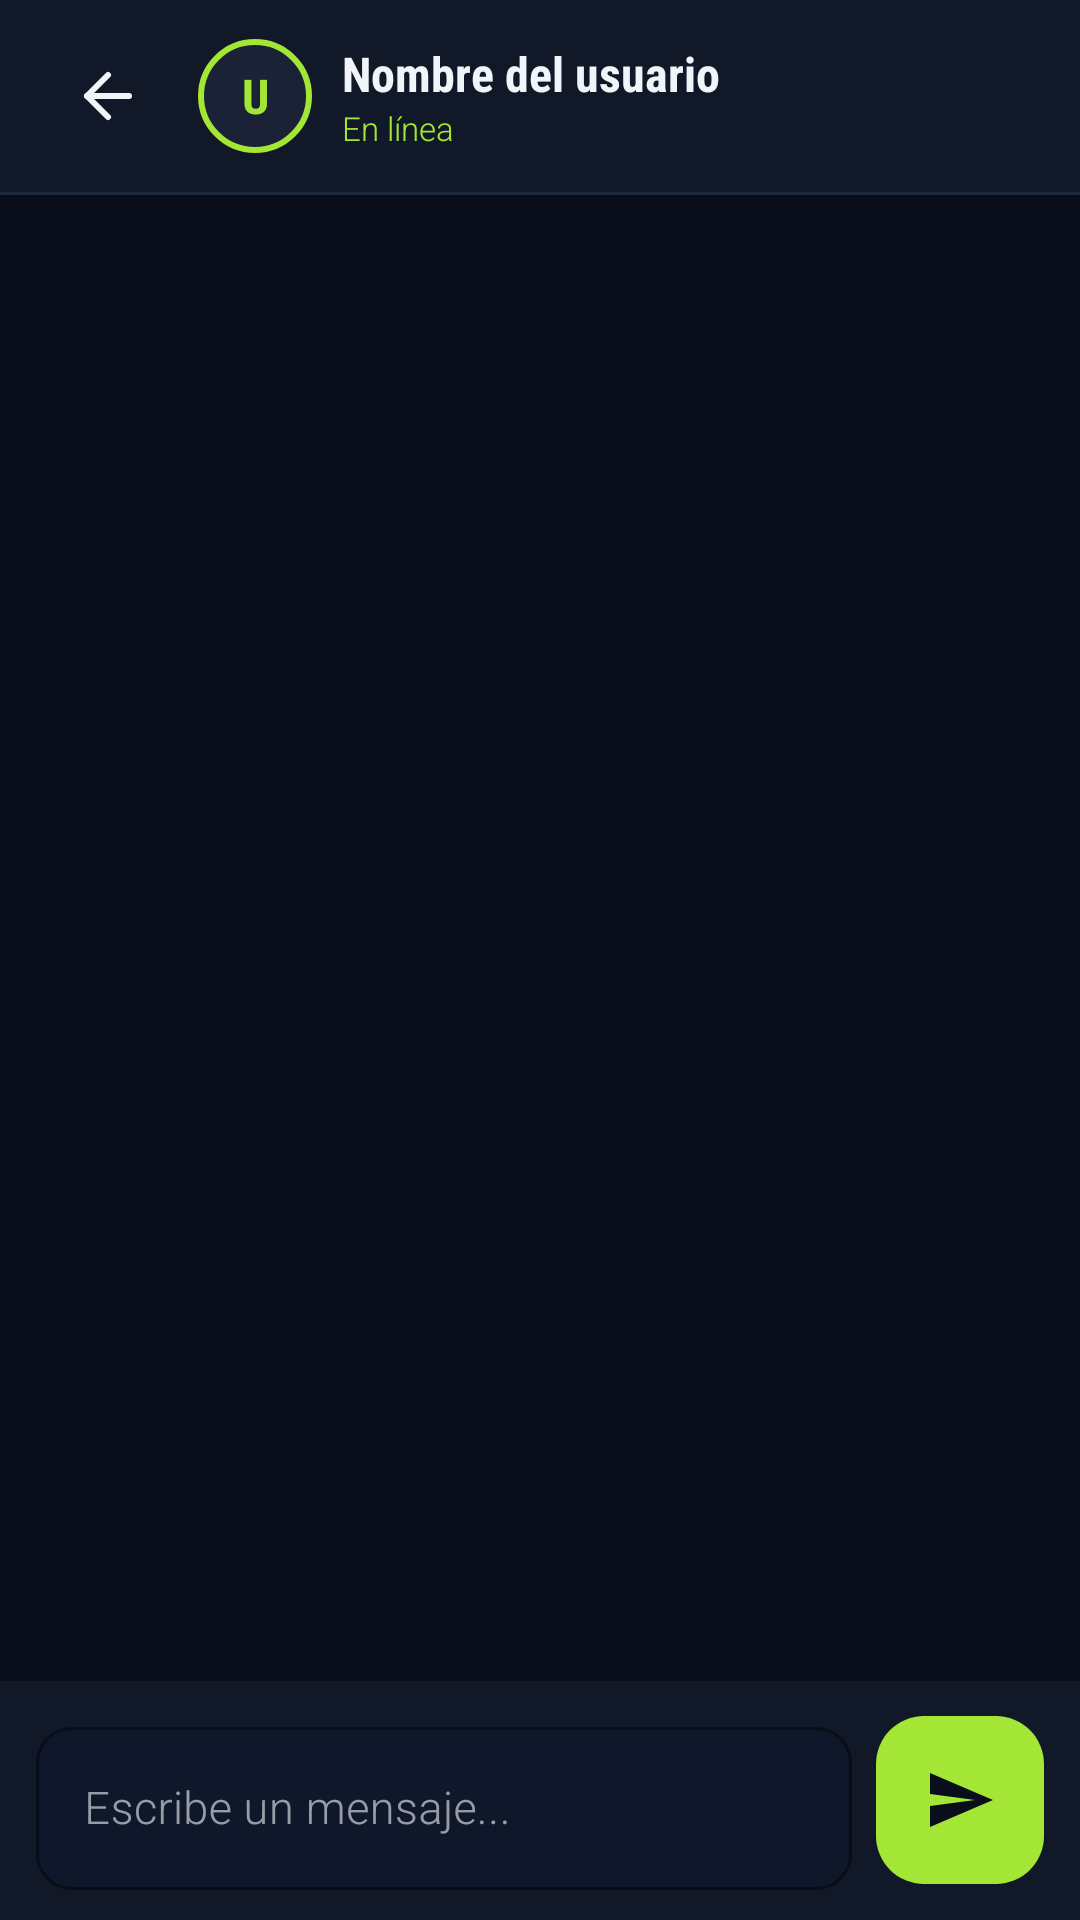

Icons on this 1080*1920 Android screen, each with the point to tap as (x,y):
arrowback: (108,96)
send: (960,1800)
